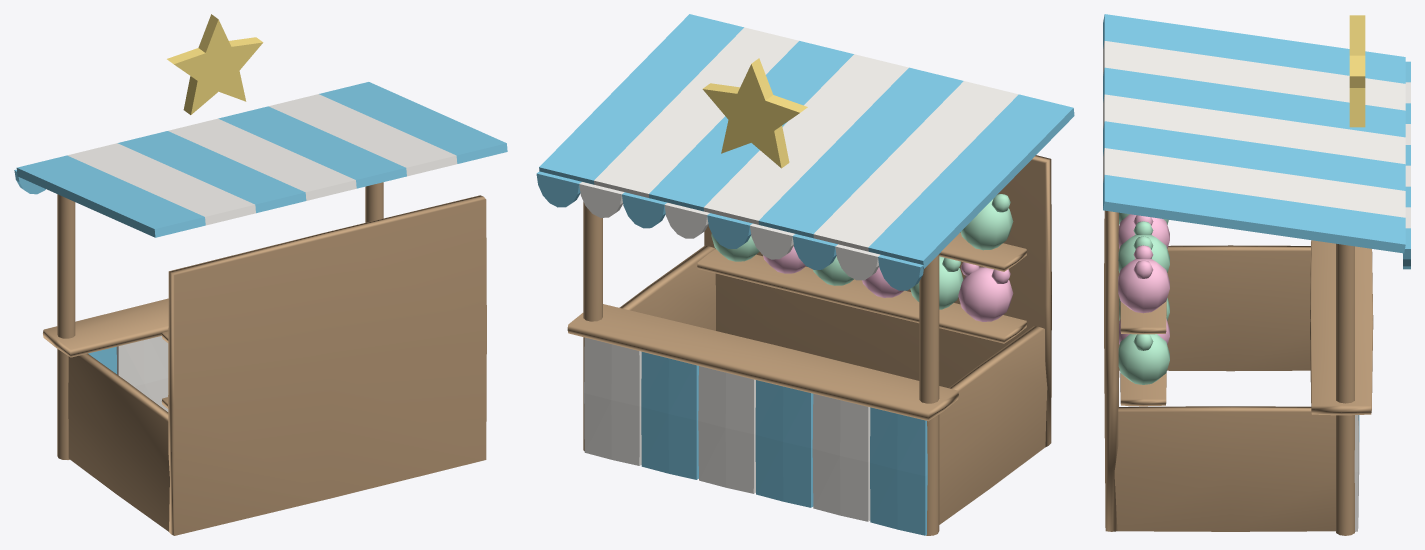
Rendered from PumpGameBooth.glb.
3 views of the same model, side by side, from view 1: azimuth 30°, elevation 25°; view 2: azimuth 150°, elevation 25°; view 3: azimuth 270°, elevation 25° (orthographic). The views are drawn at different scales.
Parts seen in each view (by area): view 1: Frame, BoothA, BoothB, Sign; view 2: Frame, BoothA, BoothB, Sign, PrizesB, PrizesA; view 3: Frame, BoothA, BoothB, PrizesB, PrizesA, Sign.
Boxes of the visible parts, left/top/right/bottom form: Frame: left=43, top=182, right=486, bottom=535; BoothA: left=14, top=82, right=507, bottom=373; BoothB: left=67, top=94, right=457, bottom=411; Sign: left=167, top=14, right=263, bottom=114; Frame: left=567, top=155, right=1051, bottom=535; BoothA: left=536, top=14, right=1074, bottom=535; BoothB: left=579, top=27, right=1018, bottom=521; Sign: left=702, top=58, right=807, bottom=168; PrizesB: left=711, top=194, right=1013, bottom=309; PrizesA: left=763, top=246, right=1013, bottom=321; Frame: left=1104, top=210, right=1373, bottom=535; BoothA: left=1103, top=14, right=1410, bottom=441; BoothB: left=1103, top=41, right=1410, bottom=531; PrizesB: left=1118, top=212, right=1169, bottom=384; PrizesA: left=1118, top=214, right=1169, bottom=344; Sign: left=1349, top=15, right=1365, bottom=127.
Bounding box in the file's own units: 11.2 × 12.1 × 7.77.
